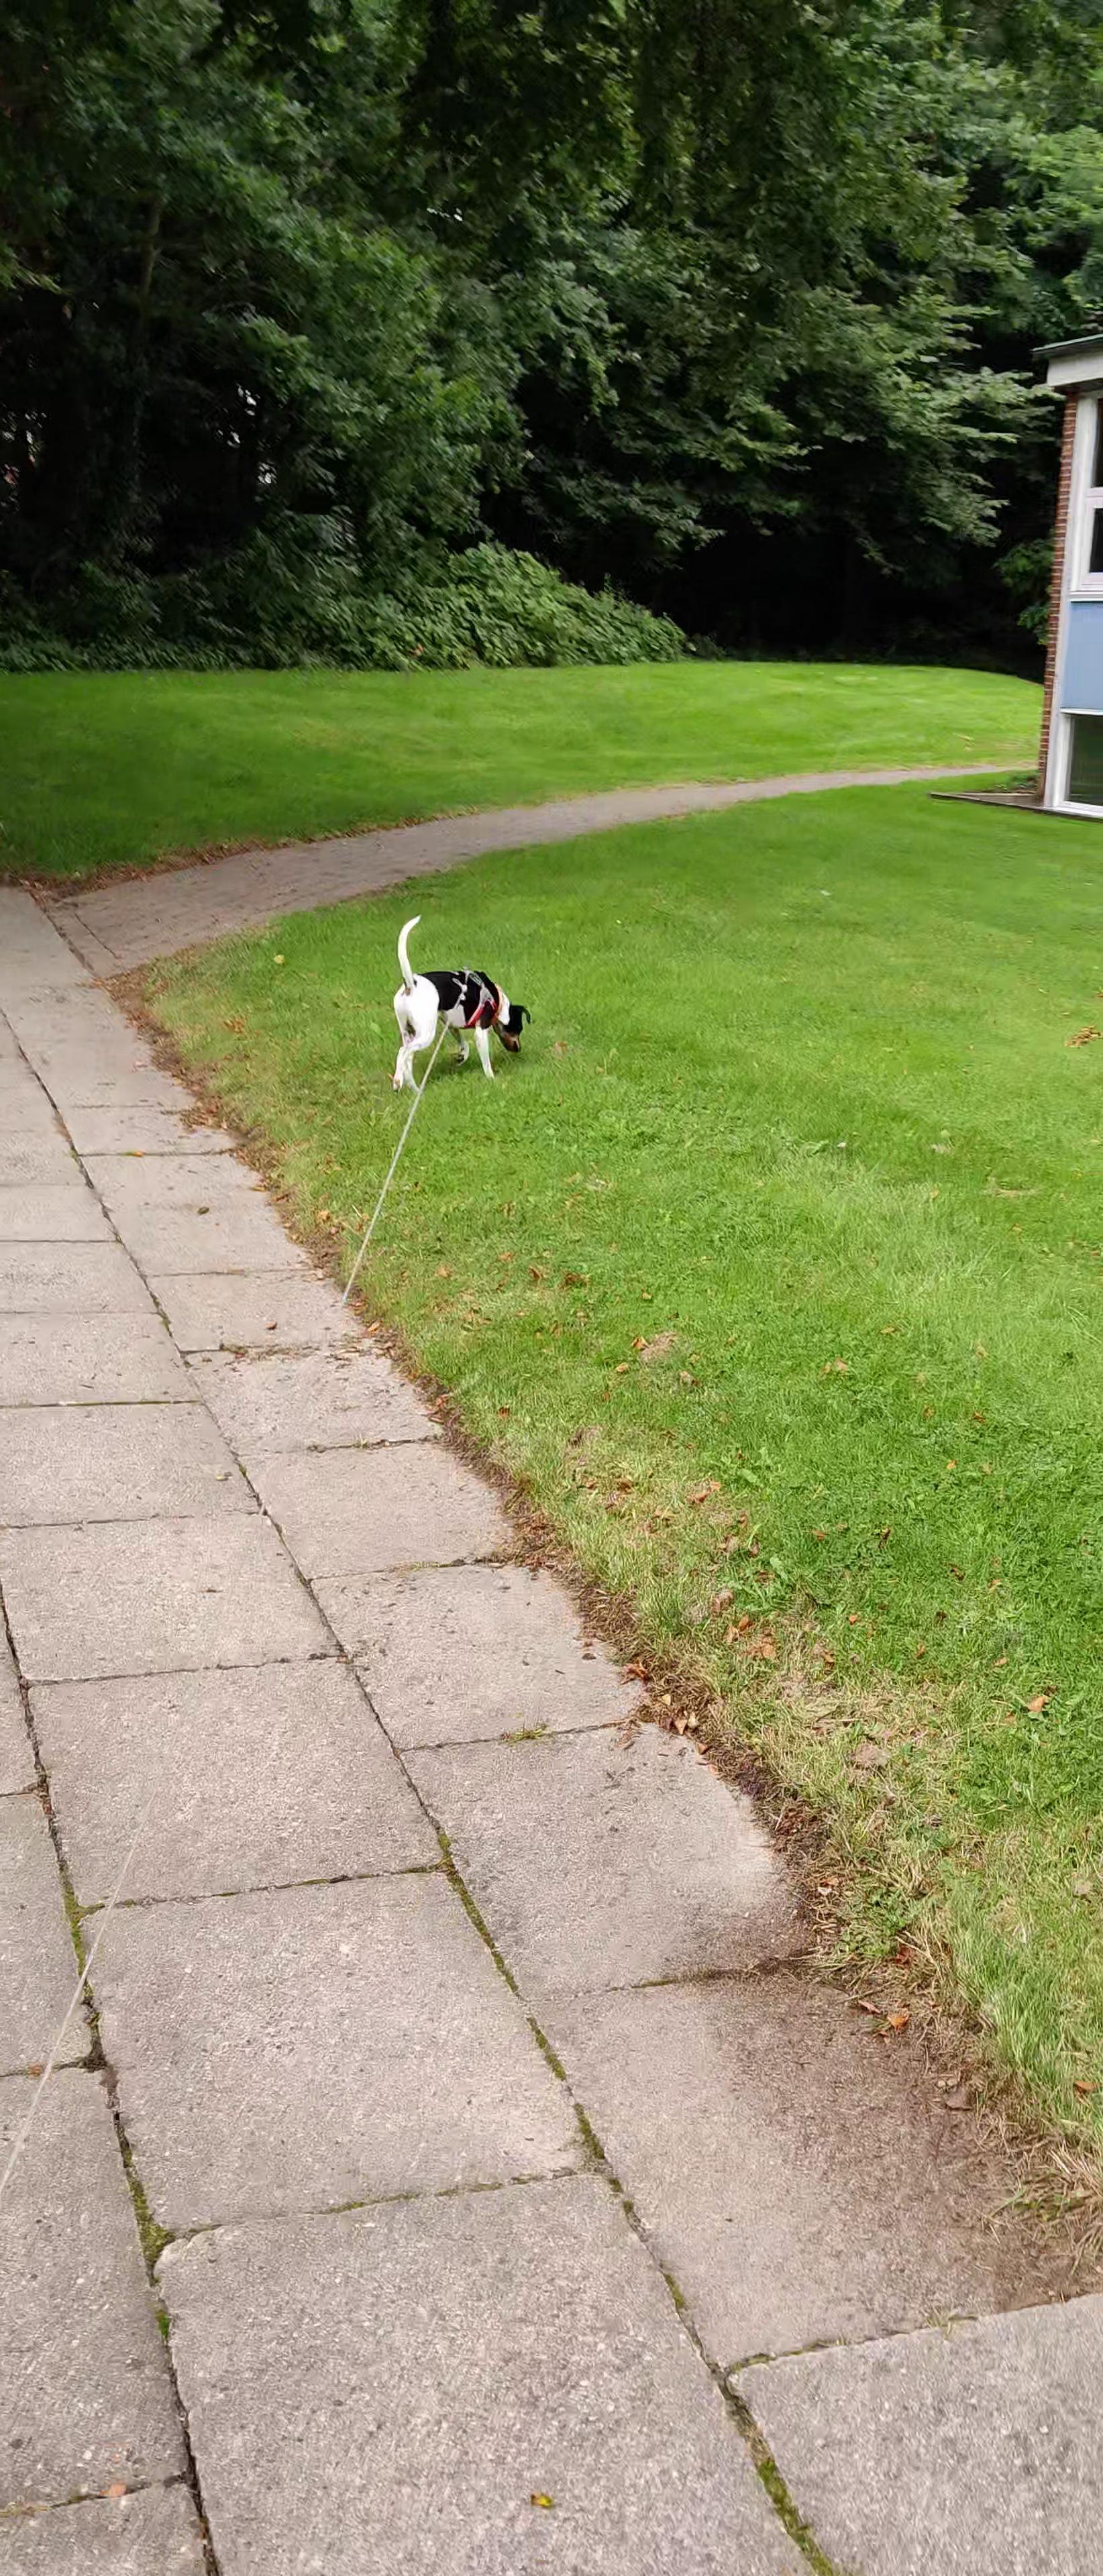Dog: (388, 912, 533, 1092)
